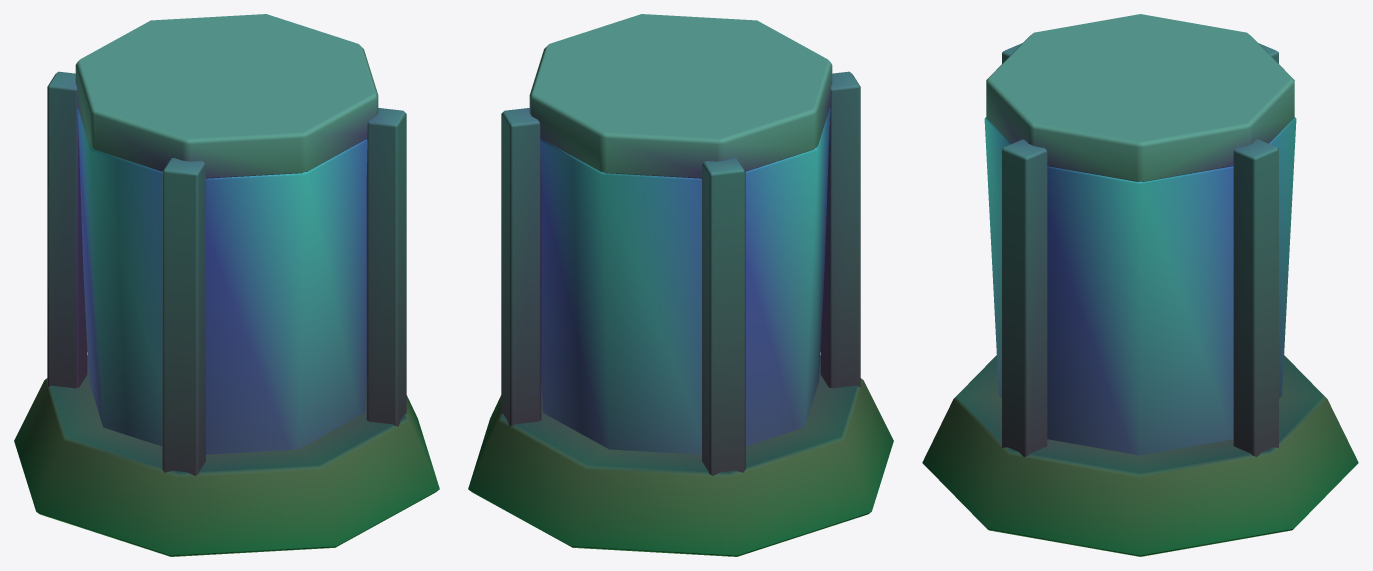
The model's file is kit_boss_plasma_pod.glb.
The picture shows the model from 3 angles, left to right: view 1: azimuth 30°, elevation 25°; view 2: azimuth 150°, elevation 25°; view 3: azimuth 270°, elevation 25°; orthographic projection.
Parts seen in each view (by area): view 1: Body__emit_core, Body__dark, Body__armor_sub, Body__gunmetal; view 2: Body__emit_core, Body__dark, Body__armor_sub, Body__gunmetal; view 3: Body__emit_core, Body__dark, Body__armor_sub, Body__gunmetal.
Boxes of the visible parts, box(x1,y1,x2,y2) form: Body__emit_core: box(77, 108, 367, 454); Body__dark: box(14, 355, 439, 556); Body__armor_sub: box(75, 14, 378, 178); Body__gunmetal: box(47, 71, 406, 475); Body__emit_core: box(540, 108, 830, 454); Body__dark: box(468, 355, 893, 556); Body__armor_sub: box(529, 14, 832, 178); Body__gunmetal: box(501, 71, 860, 475); Body__emit_core: box(984, 117, 1296, 455); Body__dark: box(922, 355, 1358, 556); Body__armor_sub: box(986, 14, 1294, 181); Body__gunmetal: box(1002, 43, 1278, 456).
Bounding box in the file's own units: 0.56 × 0.55 × 0.56.
